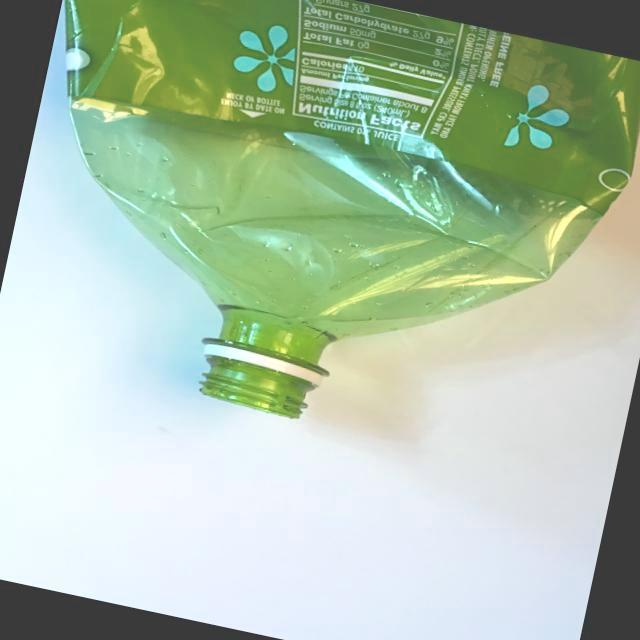plastic: (0, 0, 640, 493)
